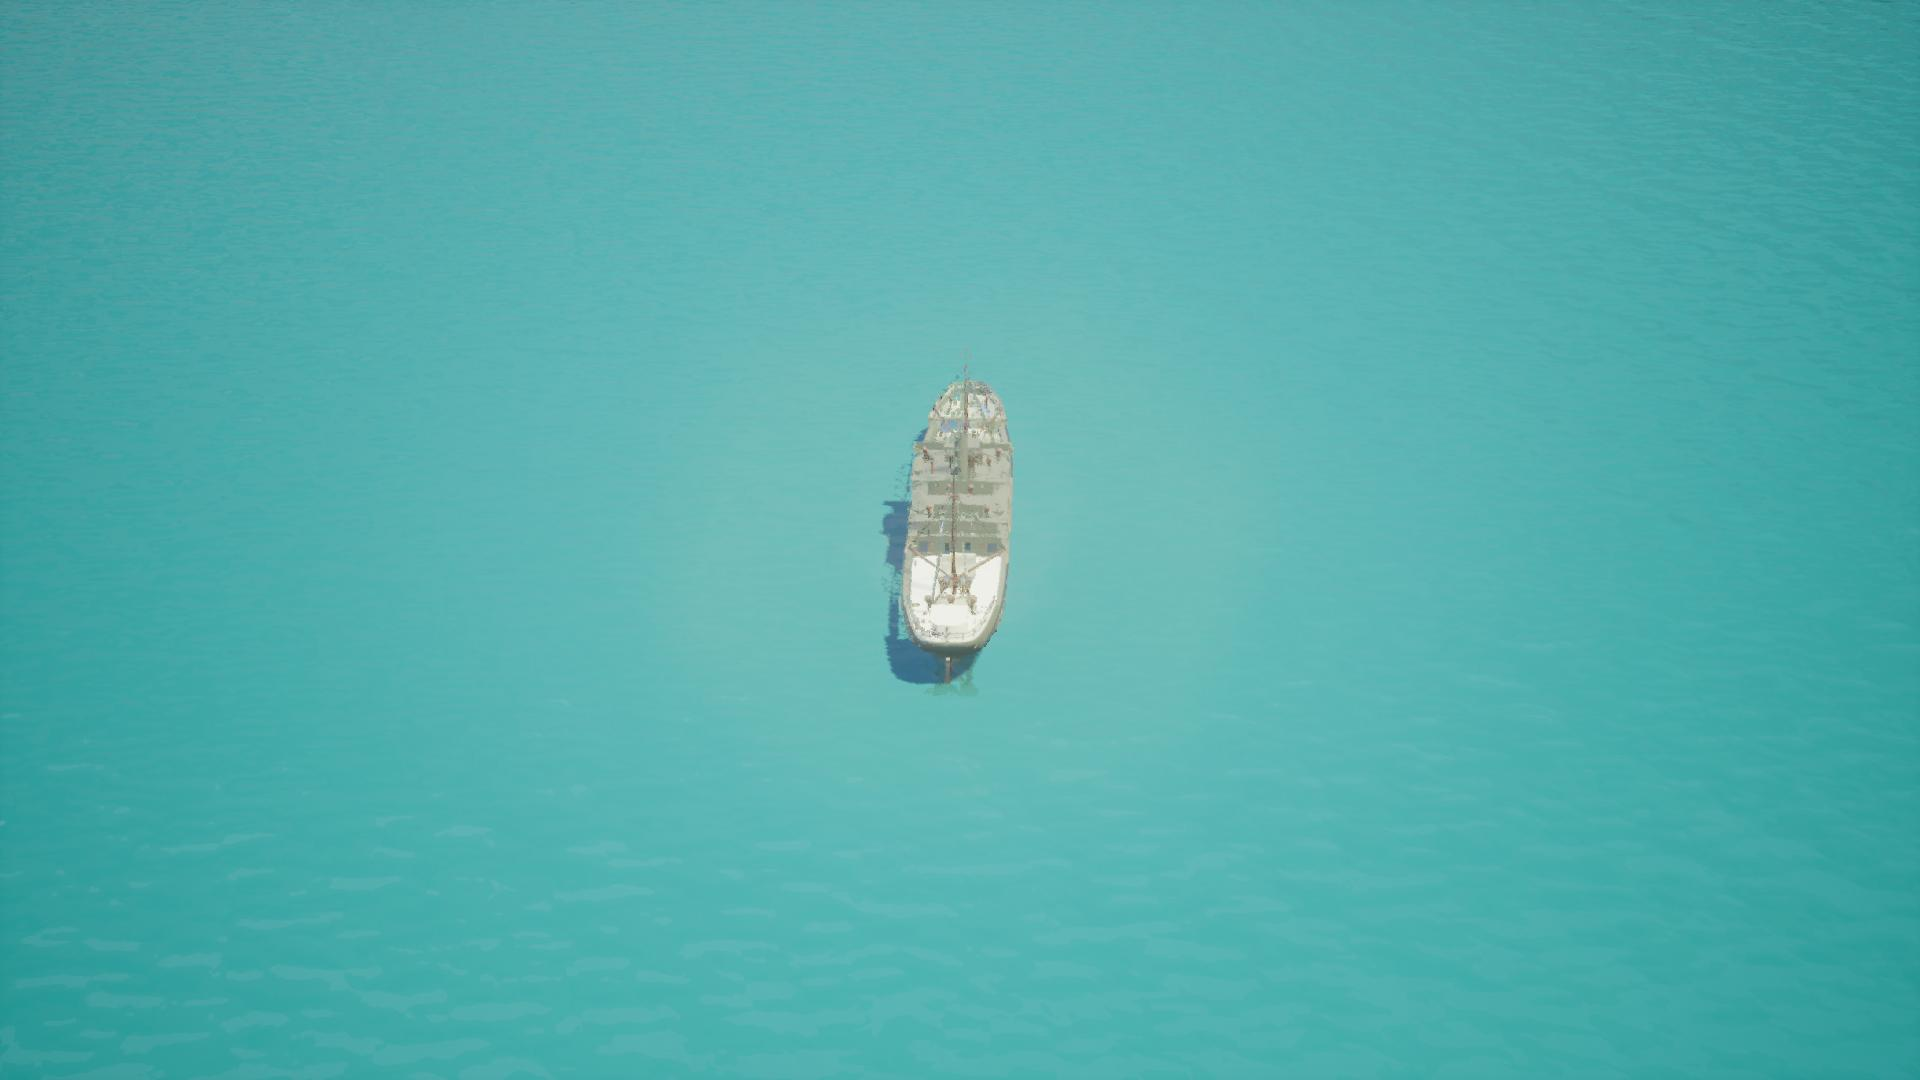Fishing Boat: (885, 376, 1019, 682)
